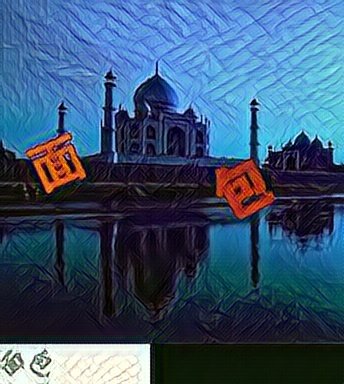B0FC: (212, 153, 277, 217)
C3E6: (25, 129, 90, 193)
